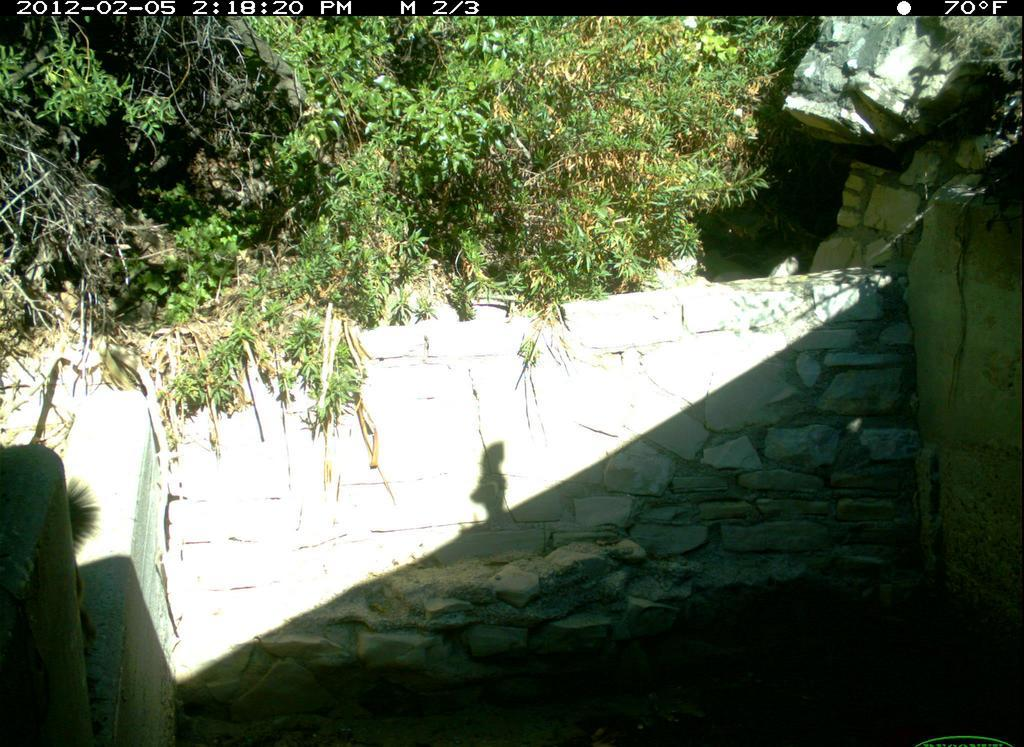squirrel: (43, 475, 118, 679)
